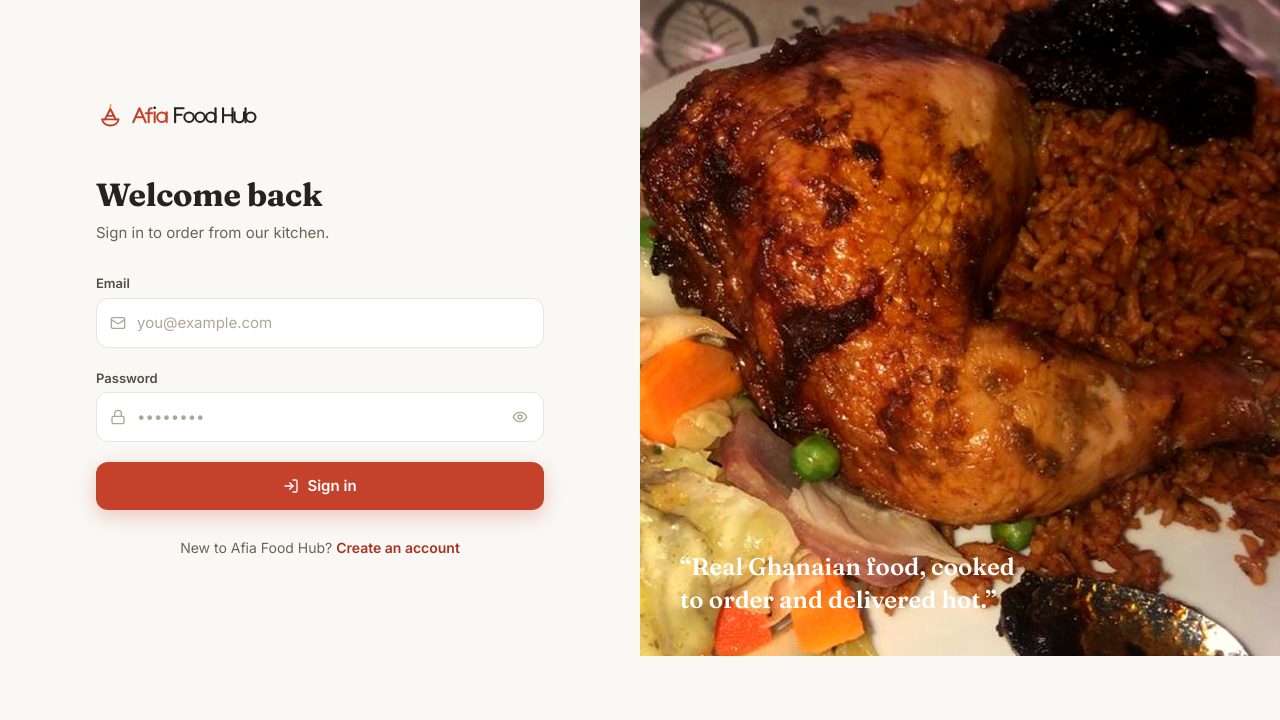
Test: LoginPage › keeps the customer on the page when the sign-in fails
Type "customer@example.test" into the field labelled "Email" at (320, 322), box [96,298,544,348]
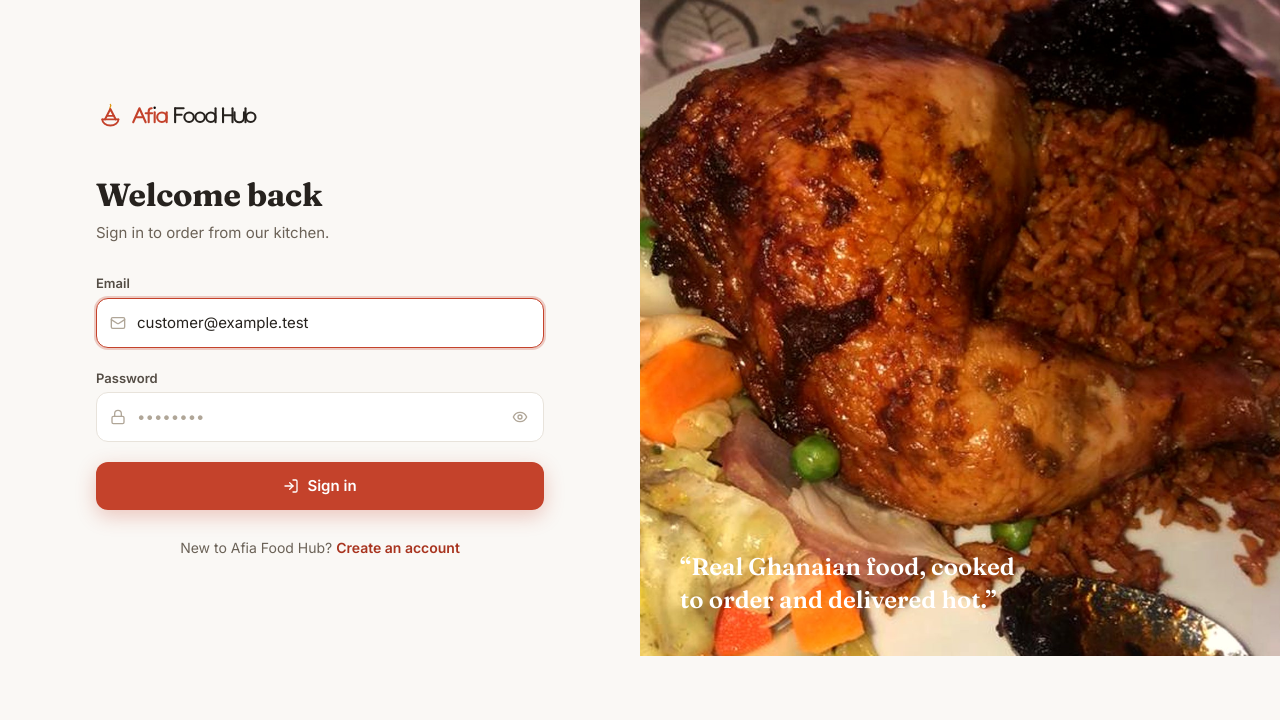
Type "Password123" into the password field labelled "Password" at (320, 417), box [96,392,544,442]
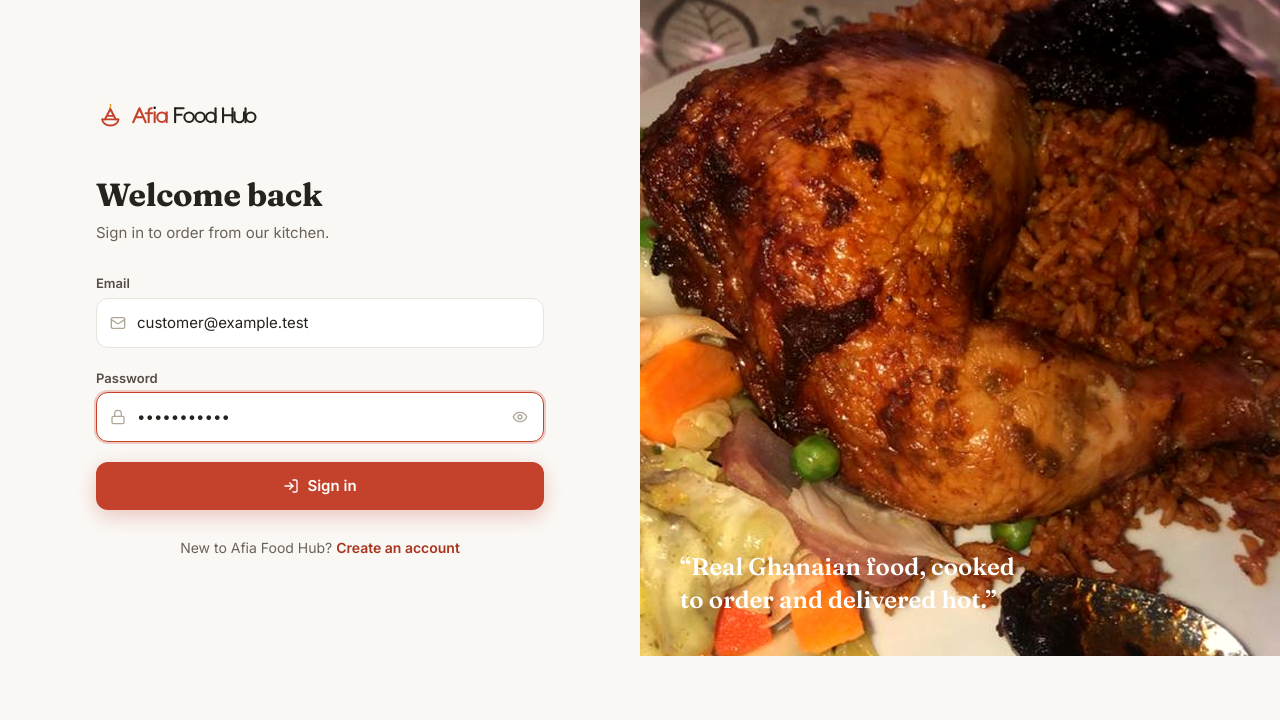
Click the button "Sign in" at (320, 486), box [96,462,544,510]
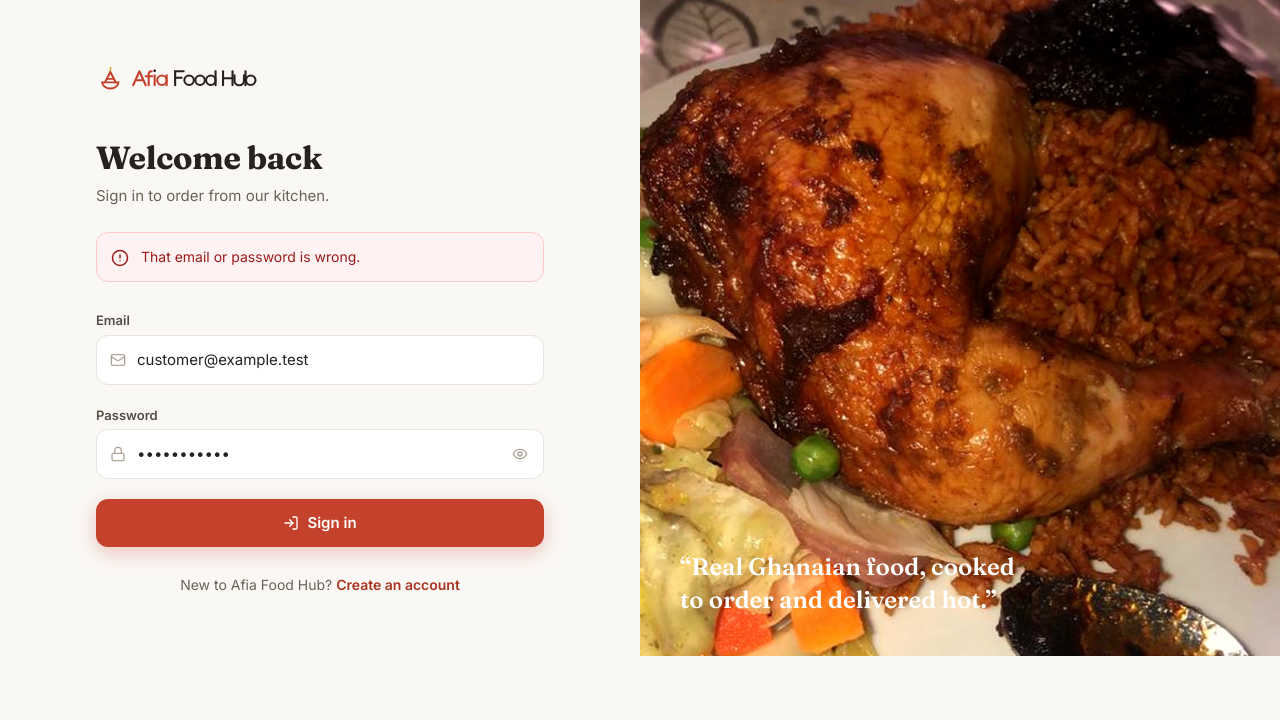
Check: the message reads "That email or password is wrong.", box [141,248,360,265]
